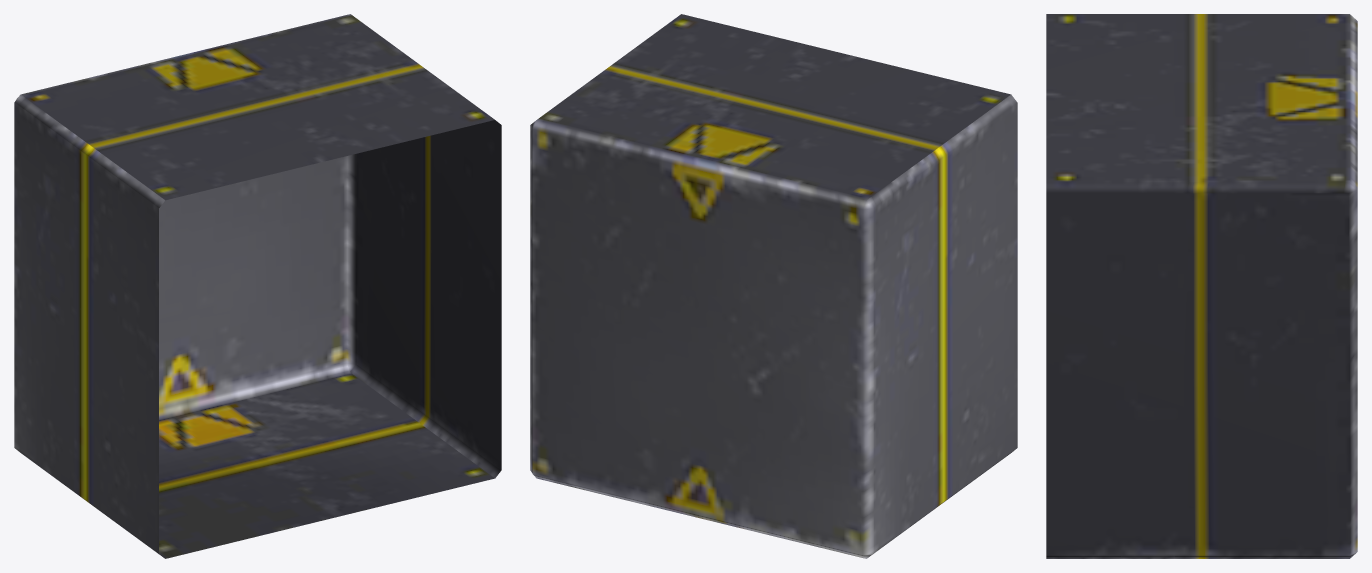
3 renders of one model, left to right at view 1: azimuth 30°, elevation 25°; view 2: azimuth 150°, elevation 25°; view 3: azimuth 270°, elevation 25°, orthographic. The views are drawn at different scales.
Visible parts, largest first — view 1: skin_crate_wild; view 2: skin_crate_wild; view 3: skin_crate_wild.
Boxes of the visible parts, x1,y1,x2,y2 form: skin_crate_wild: (14,14,501,558); skin_crate_wild: (530,14,1017,558); skin_crate_wild: (1046,14,1357,558).
Size of the model in its own units: 0.9 by 0.9 by 0.675.
1 material, 1 textured.
